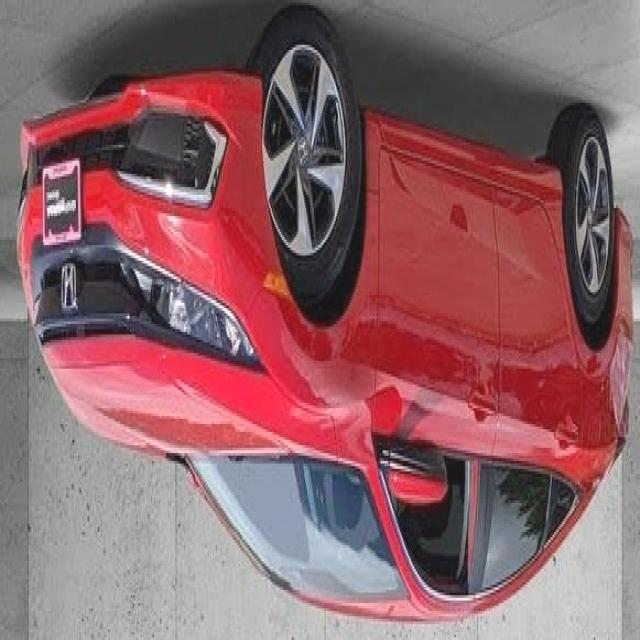red: (20, 24, 640, 611)
